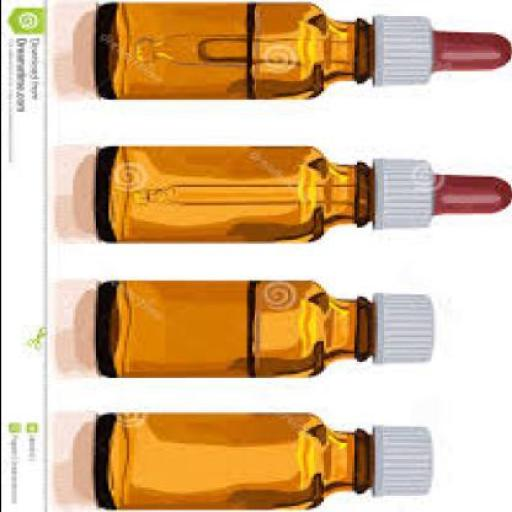glass: (98, 410, 373, 508), (100, 279, 376, 376), (100, 0, 374, 97), (98, 144, 373, 240)
plastic: (371, 424, 438, 494), (374, 293, 435, 362), (374, 159, 435, 225), (376, 16, 435, 81)
